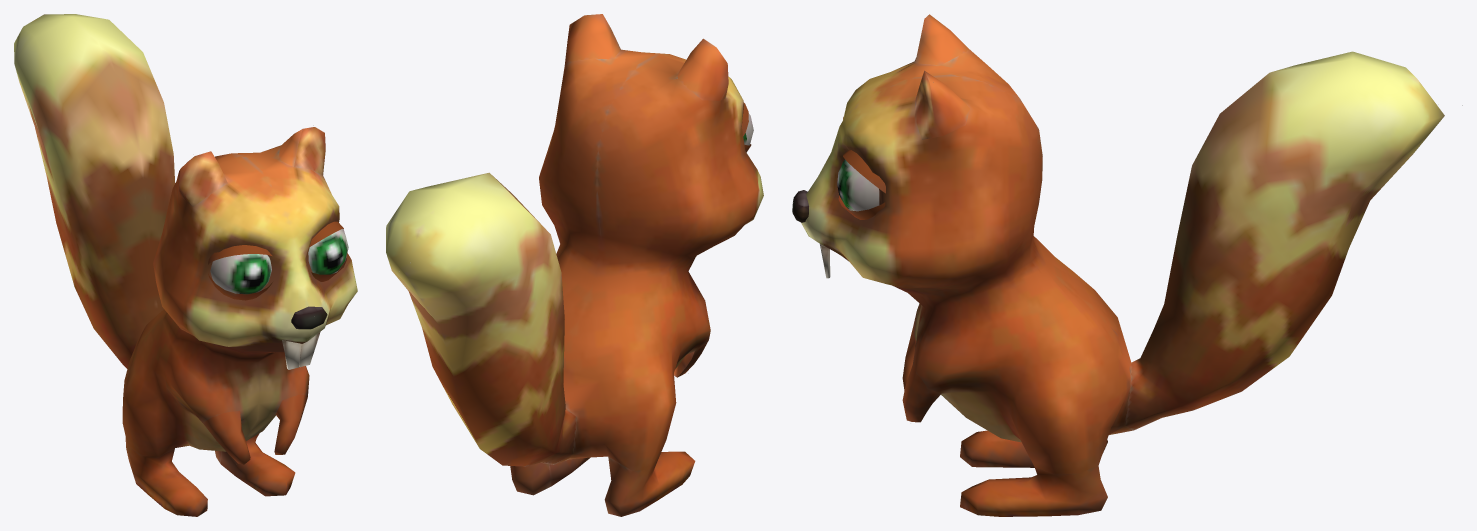
The model's file is Squirrel.obj.
3 renders of one model, left to right at view 1: azimuth 30°, elevation 25°; view 2: azimuth 150°, elevation 25°; view 3: azimuth 270°, elevation 25°, orthographic. The views are drawn at different scales.
Parts seen in each view (by area): view 1: Object0012; view 2: Object0012; view 3: Object0012.
Part boxes in pixels (x1,y1,x2,y2): Object0012: [14, 14, 357, 516]; Object0012: [386, 14, 763, 516]; Object0012: [792, 14, 1444, 516].
Size of the model in its own units: 4.28 by 9.11 by 12.56.
Materials: 1 (1 with a texture image).
